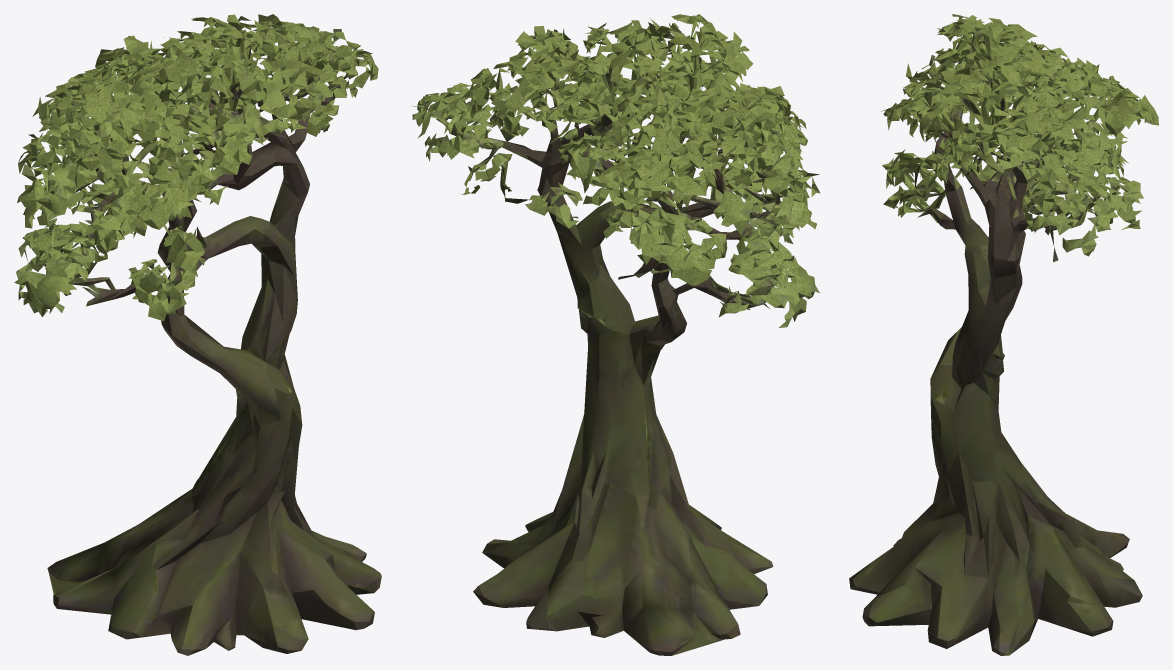
The model's file is oak_mid_s.glb.
3 views of the same model, side by side, from view 1: azimuth 30°, elevation 25°; view 2: azimuth 150°, elevation 25°; view 3: azimuth 270°, elevation 25° (orthographic). The views are drawn at different scales.
Size of the model in its own units: 1.28 by 1.87 by 0.9551.
1 material, 1 textured.
